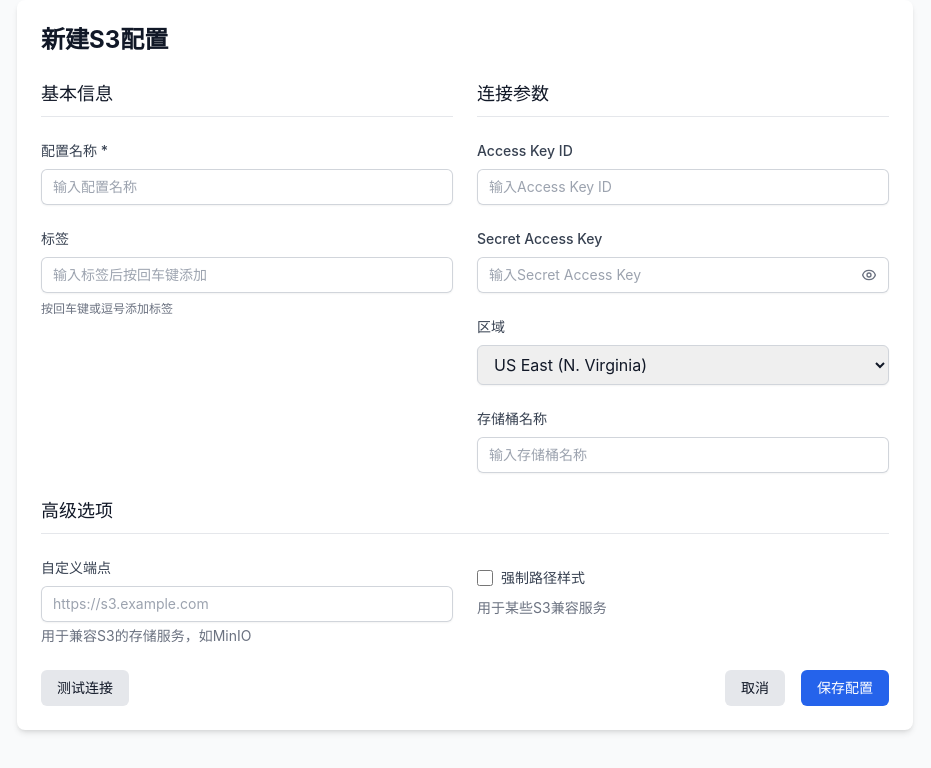
Test: ConfigForm › Connection Testing › should test connection successfully
// Fill form with valid data
Step 1. Type "Test Config" into the field labelled "配置名称 *" → (247, 187), box [41,169,453,205]
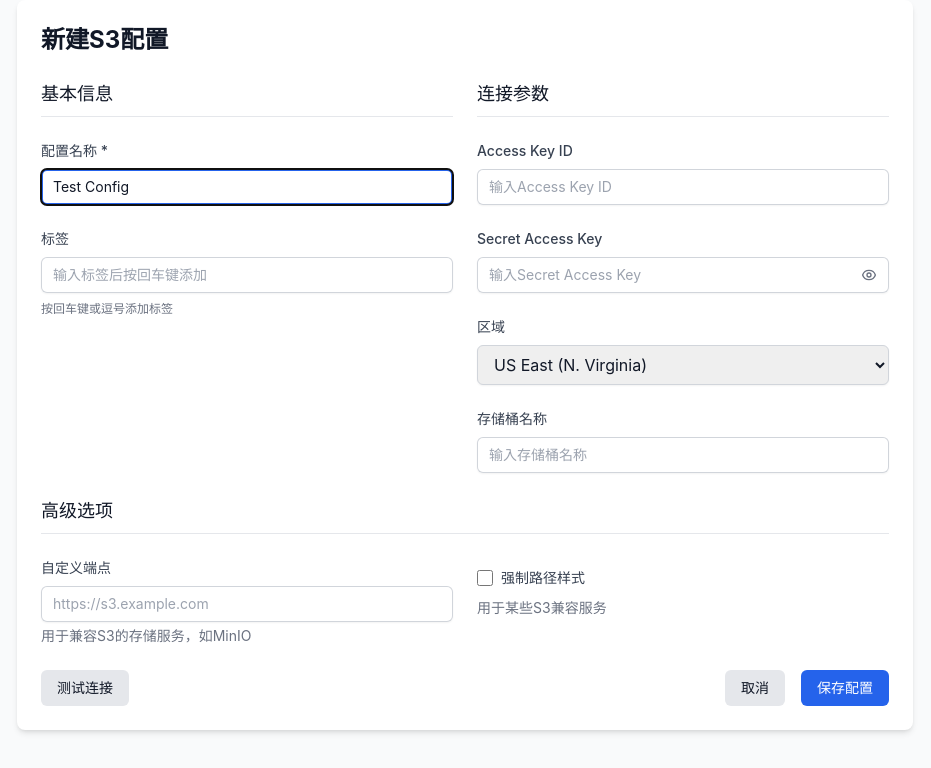
Step 2. Type "AKIAIOSFODNN7EXAMPLE" into the field labelled "Access Key ID" → (683, 187), box [477,169,889,205]
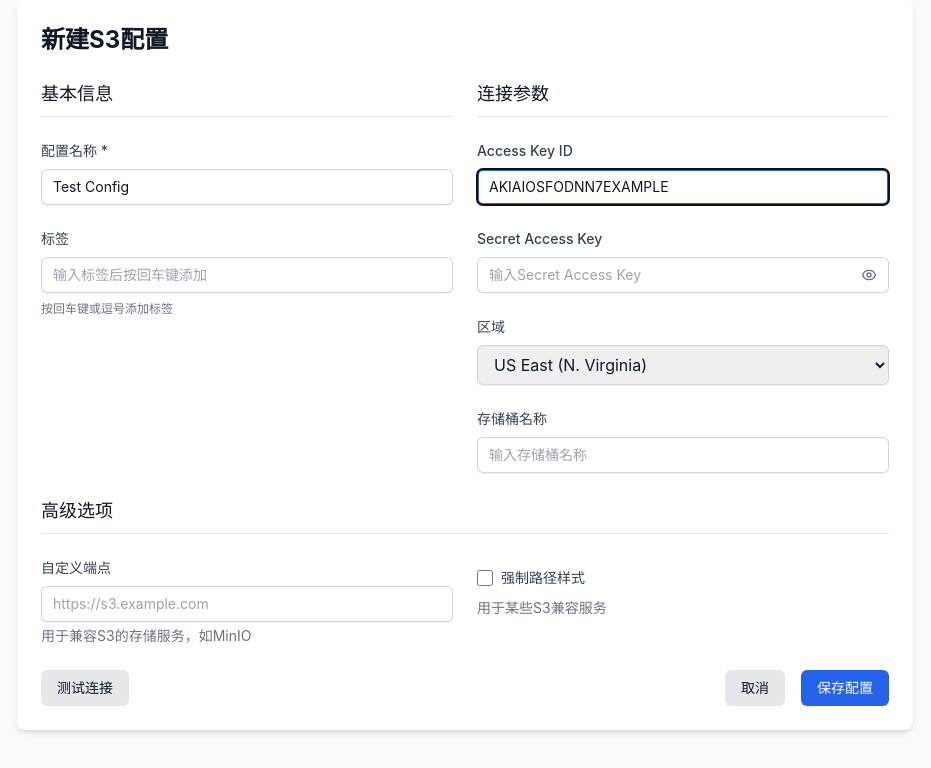
Step 3. Type "wJalrXUtnFEMI/K7MDENG/bPxRfiCYEXAMPLEKEY" into the password field labelled "Secret Access Key" → (683, 275), box [477,257,889,293]
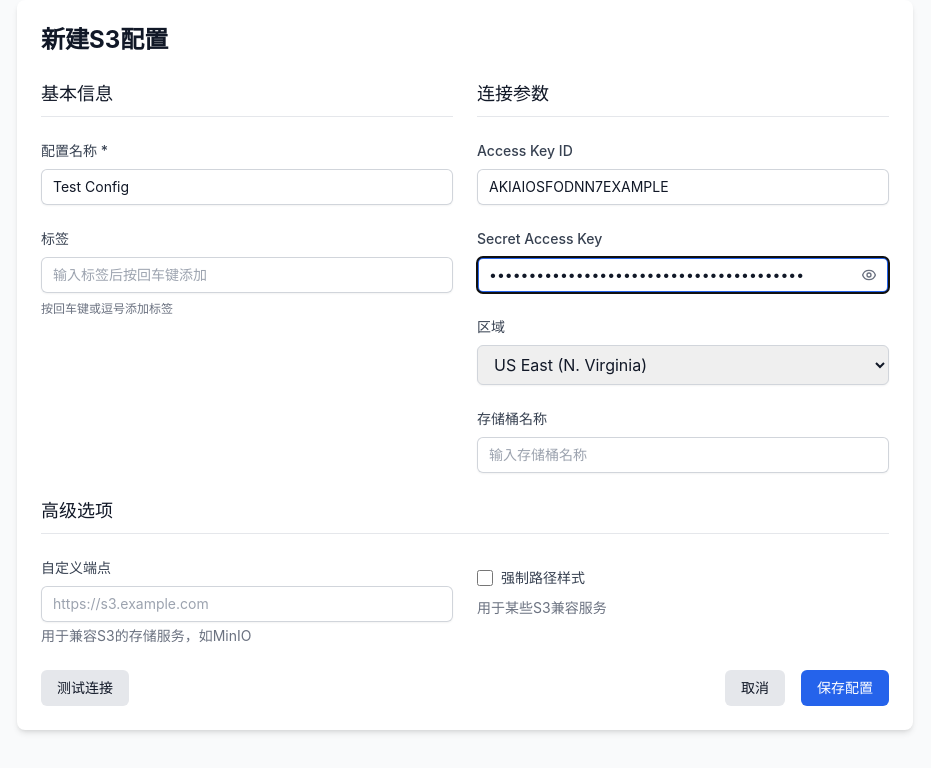
Step 4. Type "test-bucket" into the field labelled "存储桶名称" → (683, 455), box [477,437,889,473]
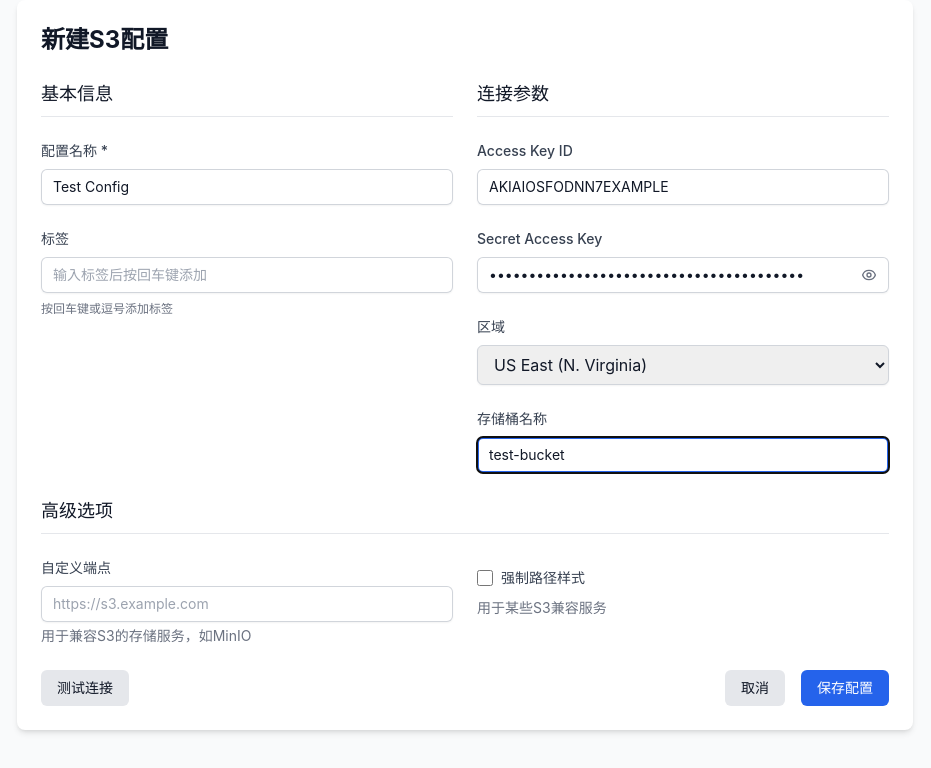
Step 5. Click the button "测试连接" → (85, 688), box [41,670,129,706]
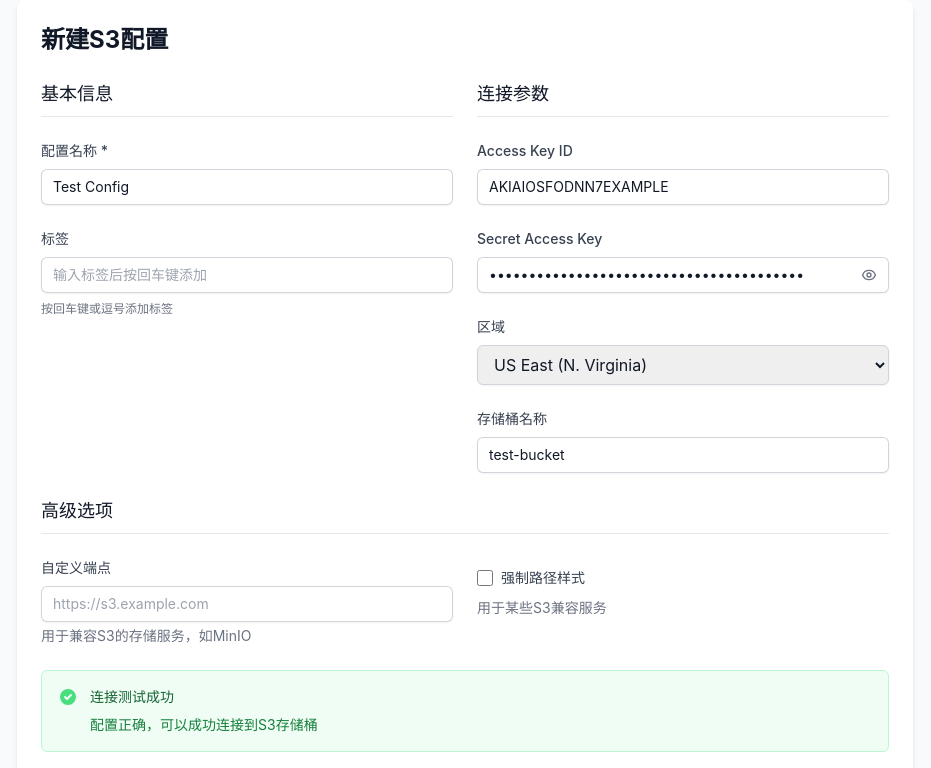
Check: the heading "连接测试成功" is shown, box [90,688,174,705]
Check: the text "配置正确，可以成功连接到S3存储桶" is shown, box [90,715,318,735]
